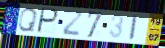3: (109, 14, 126, 40)
7: (86, 10, 103, 40)
I: (127, 14, 139, 42)
P: (35, 7, 60, 35)
Q: (17, 7, 39, 33)
Z: (61, 9, 84, 37)
